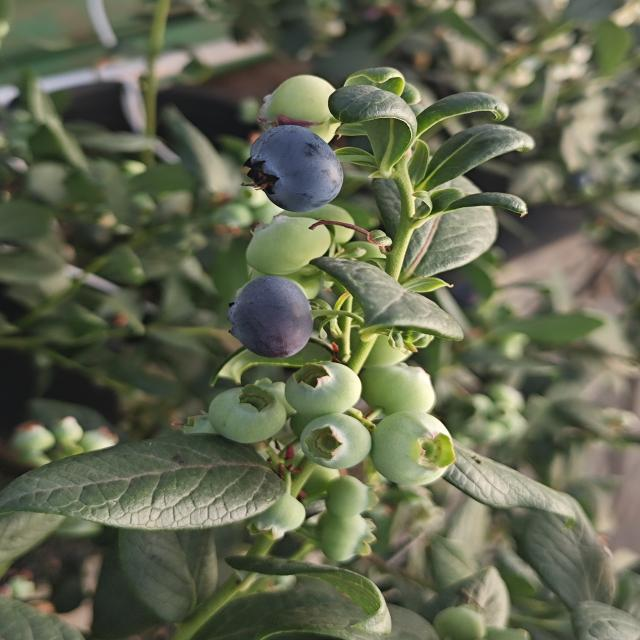ripe: (223, 122, 352, 217), (209, 272, 328, 361)
